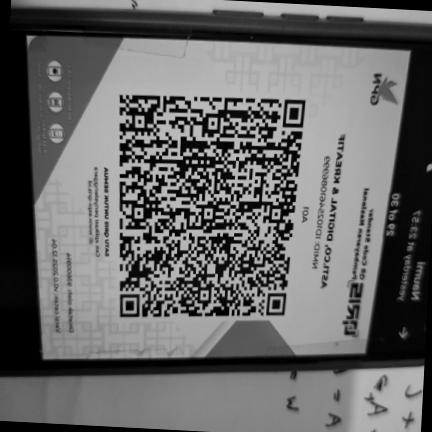Cara Pakai QRIS: (30, 44, 77, 164)
Cek Aplikasi Penyelenggara: (82, 162, 102, 261)
Dicetak Oleh: (62, 245, 79, 338)
Logo GPN: (362, 65, 405, 112)
Logo dan deskripsi QRIS: (335, 177, 387, 348)
Nama Merchant: (318, 127, 349, 295)
National Merchant ID: (309, 150, 333, 275)
QR Code: (114, 89, 310, 323)
Slogan: (101, 163, 112, 261)
Terminal ID: (299, 201, 311, 228)
Versi Cetak: (47, 229, 64, 338)
